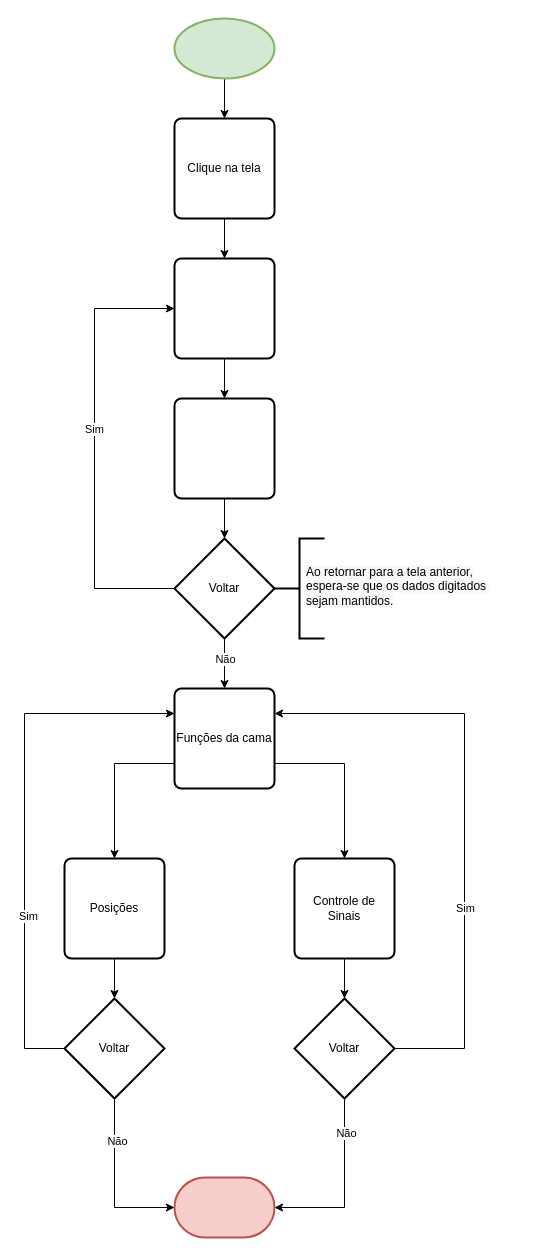
Image size: 542x1255. Some labels were removed from this diagram. Each missing label, with the centre of its shape:
Conecte-se com a cama: the point at 224,448
Dados do paciente: the point at 224,308
Fim: the point at 224,1207
Inicio: the point at 224,48
